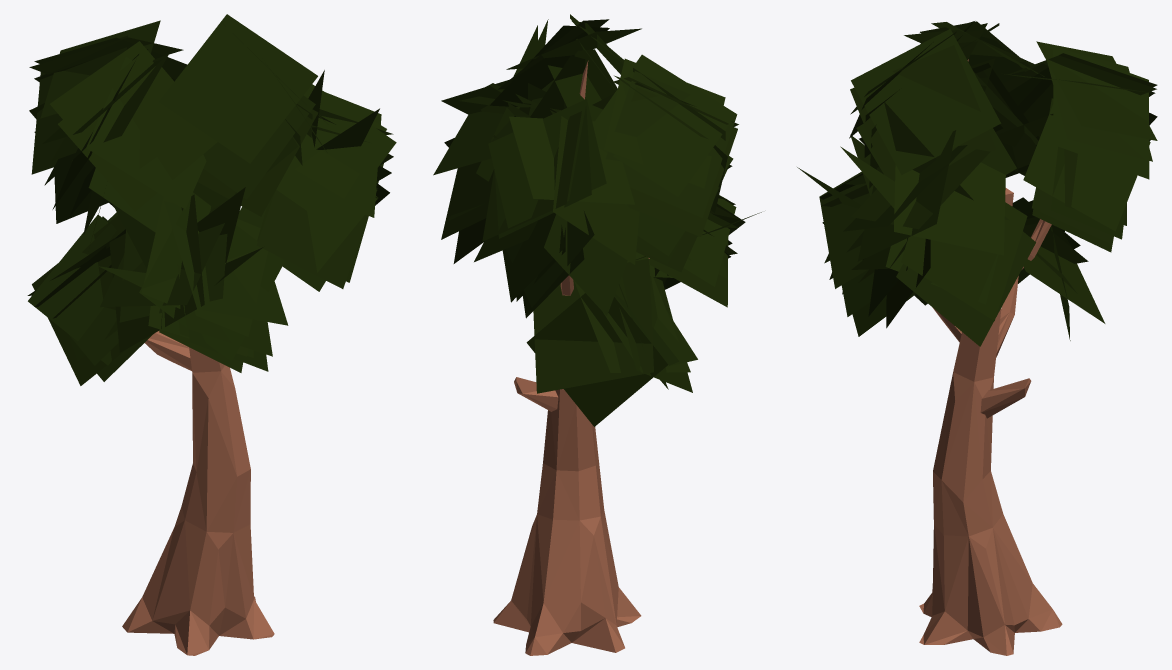
The model's file is tree3far.glb.
3 renders of one model, left to right at view 1: azimuth 30°, elevation 25°; view 2: azimuth 150°, elevation 25°; view 3: azimuth 270°, elevation 25°, orthographic. The views are drawn at different scales.
Parts seen in each view (by area): view 1: CommonTree_5; view 2: CommonTree_5; view 3: CommonTree_5.
Part boxes in pixels (x1,y1,x2,y2): CommonTree_5: (27, 14, 396, 655); CommonTree_5: (433, 14, 761, 655); CommonTree_5: (797, 21, 1157, 655).
Size of the model in its own units: 3.3 by 6.24 by 3.42.
